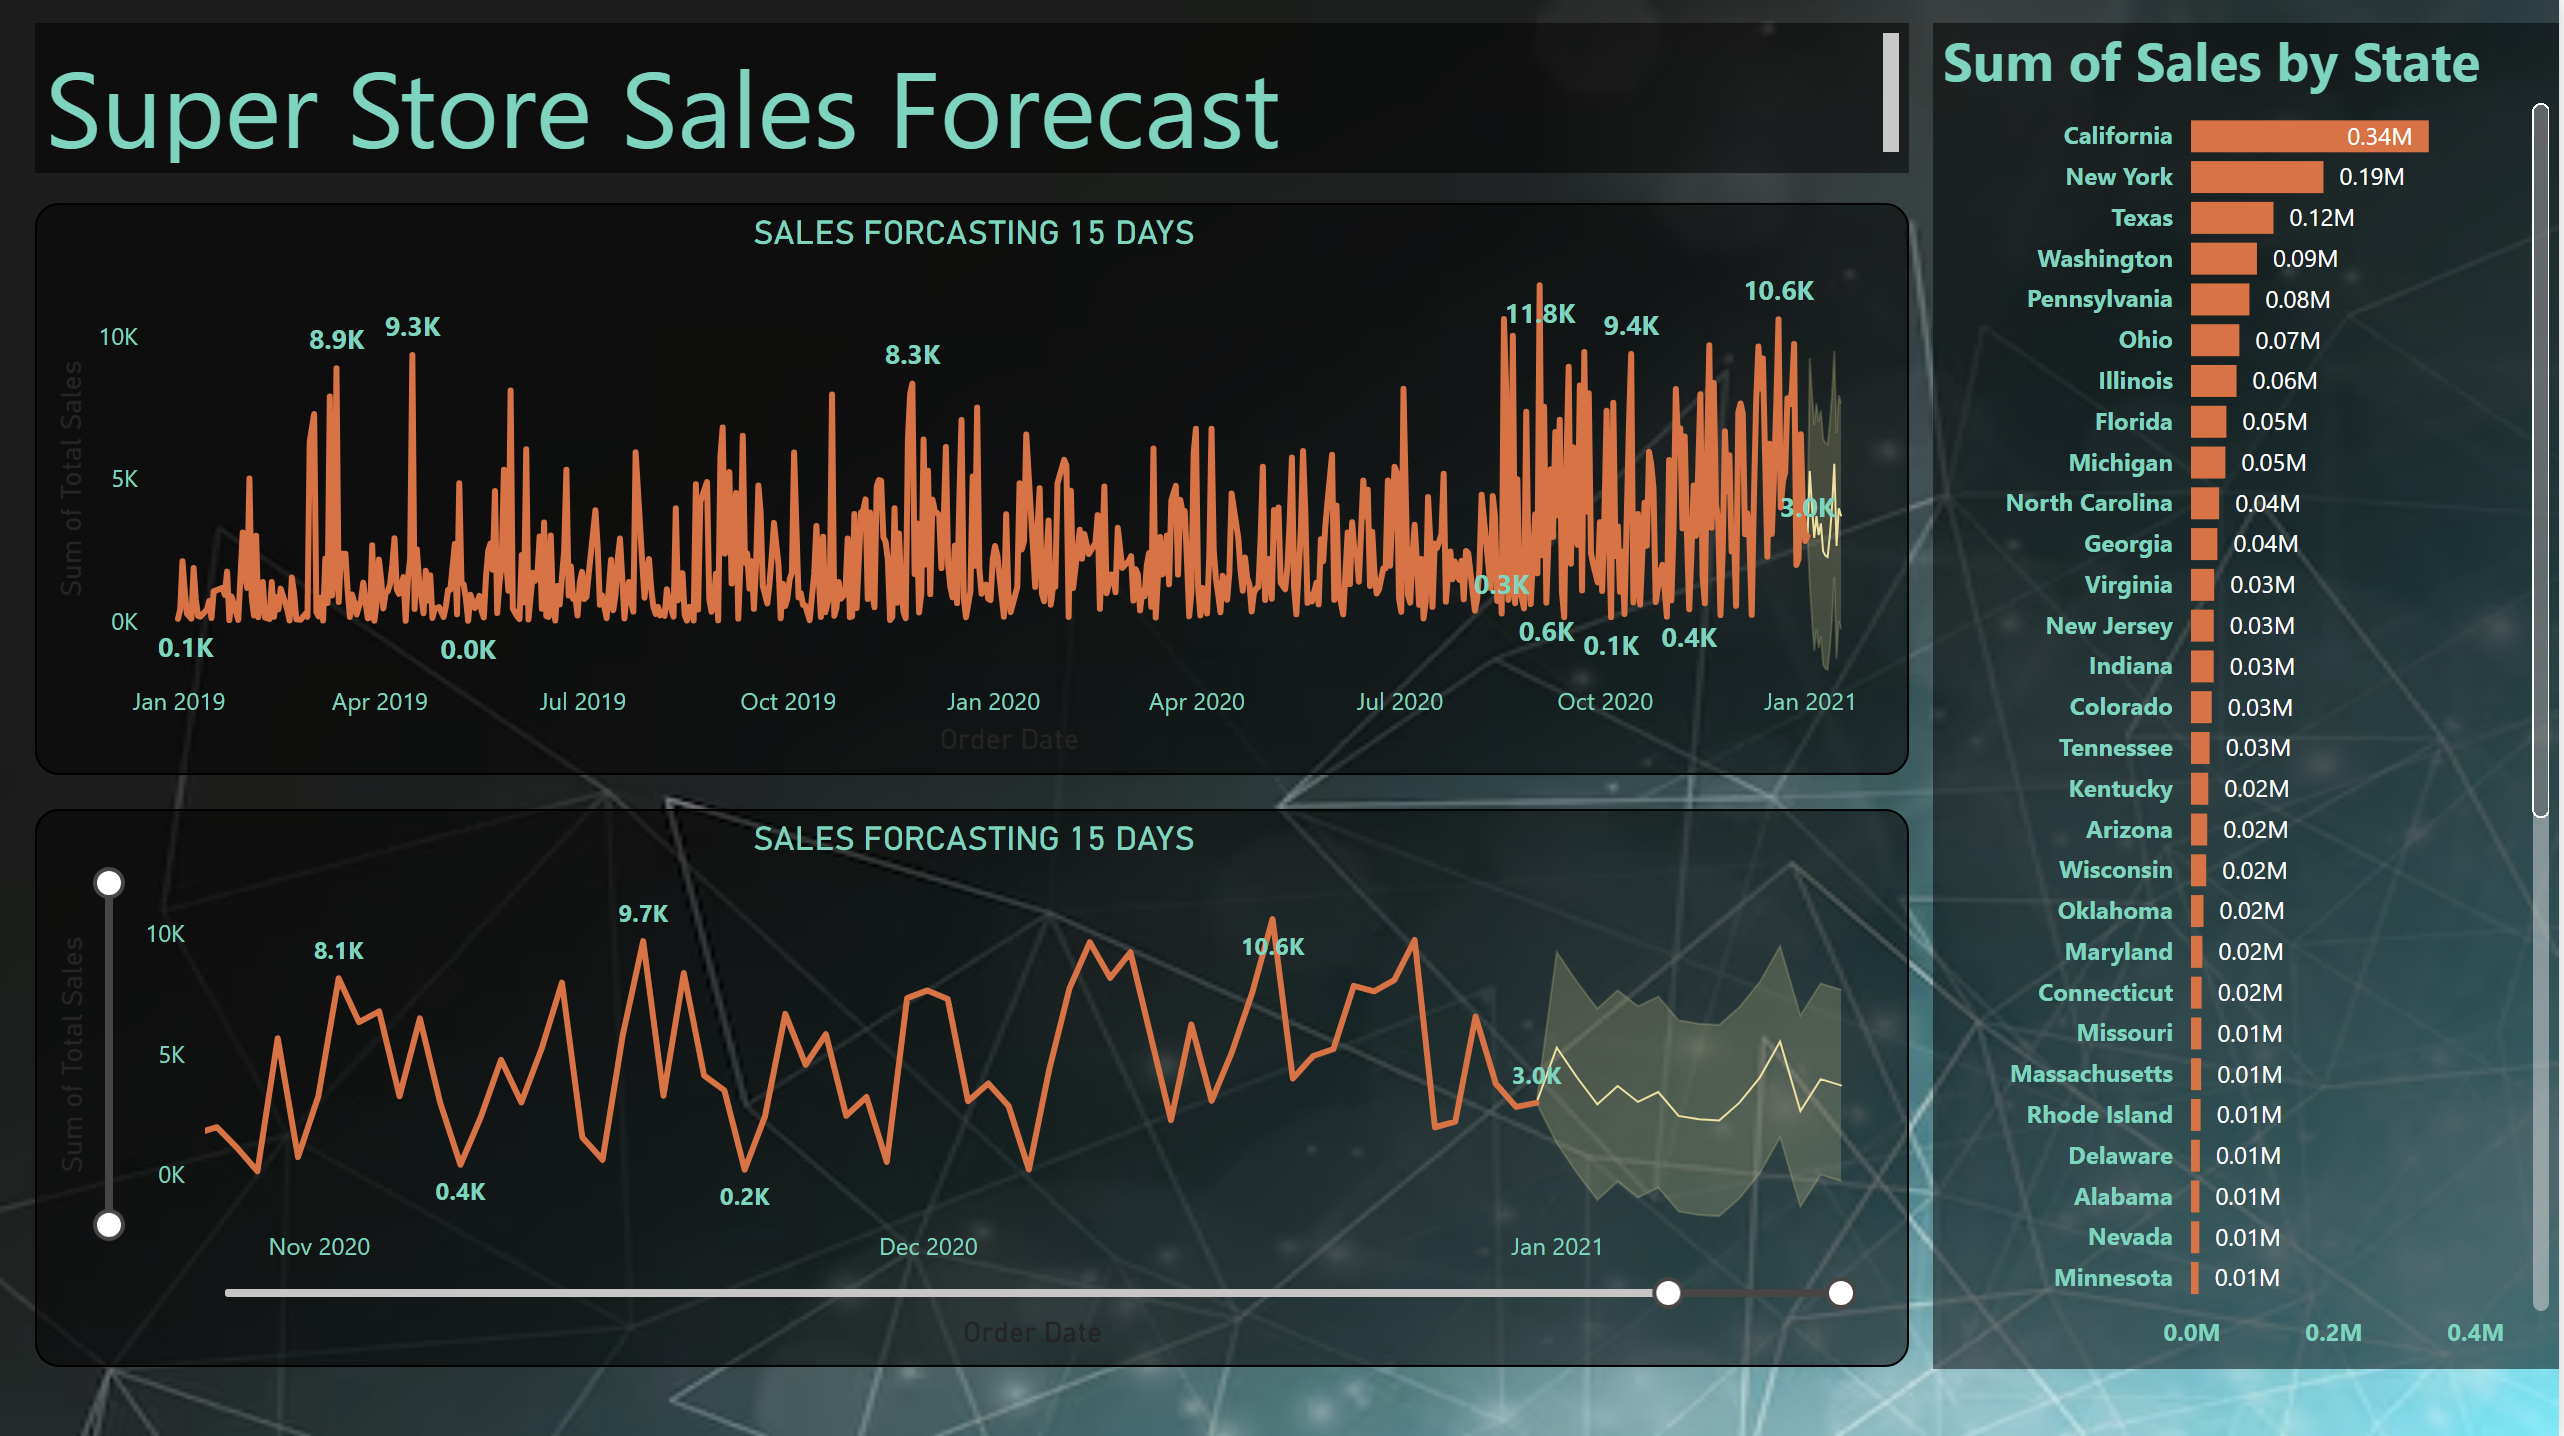

Layout of this report page (visuals, bound fields, positions):
{"tool":"powerbi","page":{"name":"Page 2","canvas":[1280,720],"ordinal":1},"visuals":[{"type":"lineChart","title":"SALES FORCASTING 15 DAYS","fields":{"Y":["Sum(SalesForecast.Total Sales)"],"Category":["SalesForecast.Order Date"]},"box":[18,103,937,286],"z":0},{"type":"lineChart","title":"SALES FORCASTING 15 DAYS","fields":{"Y":["Sum(SalesForecast.Total Sales)"],"Category":["SalesForecast.Order Date"]},"box":[18,406,937,279],"z":1},{"type":"textbox","box":[18,13,937,75],"z":2},{"type":"clusteredBarChart","fields":{"Category":["Sheet1.State"],"Y":["Sum(Sheet1.Sales)"]},"box":[967,13,313,673],"z":3}]}

Visuals, with their boxes in screenshot pixels (x1, y1, x2, y2), scaled from the page's 1280x720 canvas onto the 2564x1436 screenshot:
"SALES FORCASTING 15 DAYS" lineChart: (left=36, top=205, right=1913, bottom=776)
"SALES FORCASTING 15 DAYS" lineChart: (left=36, top=810, right=1913, bottom=1366)
textbox: (left=36, top=26, right=1913, bottom=176)
clusteredBarChart - Sheet1.State x Sum(Sheet1.Sales): (left=1937, top=26, right=2563, bottom=1368)
